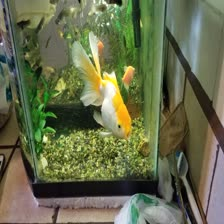Cuezo: (68, 37, 135, 142)
